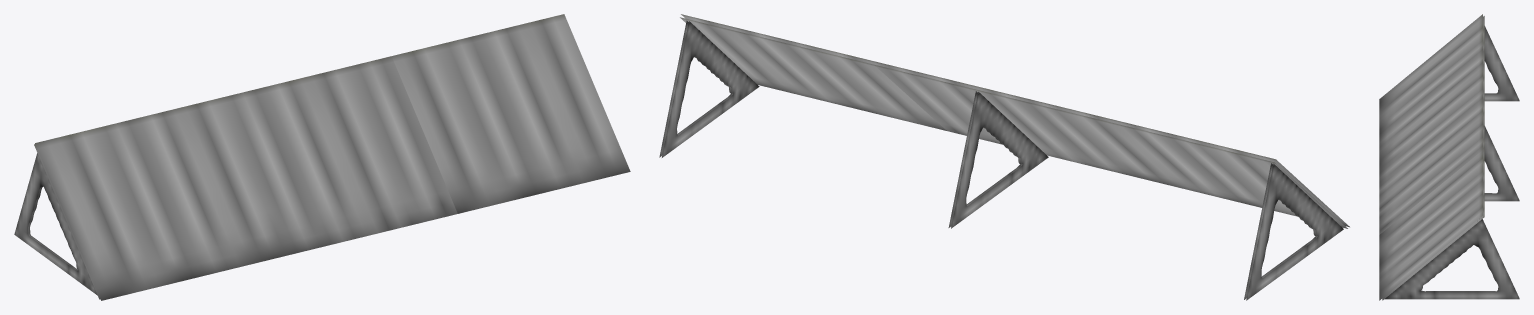
File: corrigatedmetalbarricade.glb
The picture shows the model from 3 angles, left to right: view 1: azimuth 30°, elevation 25°; view 2: azimuth 150°, elevation 25°; view 3: azimuth 270°, elevation 25°; orthographic projection. The views are drawn at different scales.
Visible parts, largest first — view 1: CorrigatedMetalBarricade; view 2: CorrigatedMetalBarricade; view 3: CorrigatedMetalBarricade.
Boxes of the visible parts, x1,y1,x2,y2 form: CorrigatedMetalBarricade: (14, 14, 630, 300); CorrigatedMetalBarricade: (659, 14, 1349, 300); CorrigatedMetalBarricade: (1379, 14, 1519, 300).
Size of the model in its own units: 8.41 by 1.66 by 2.47.
1 material, 1 textured.
